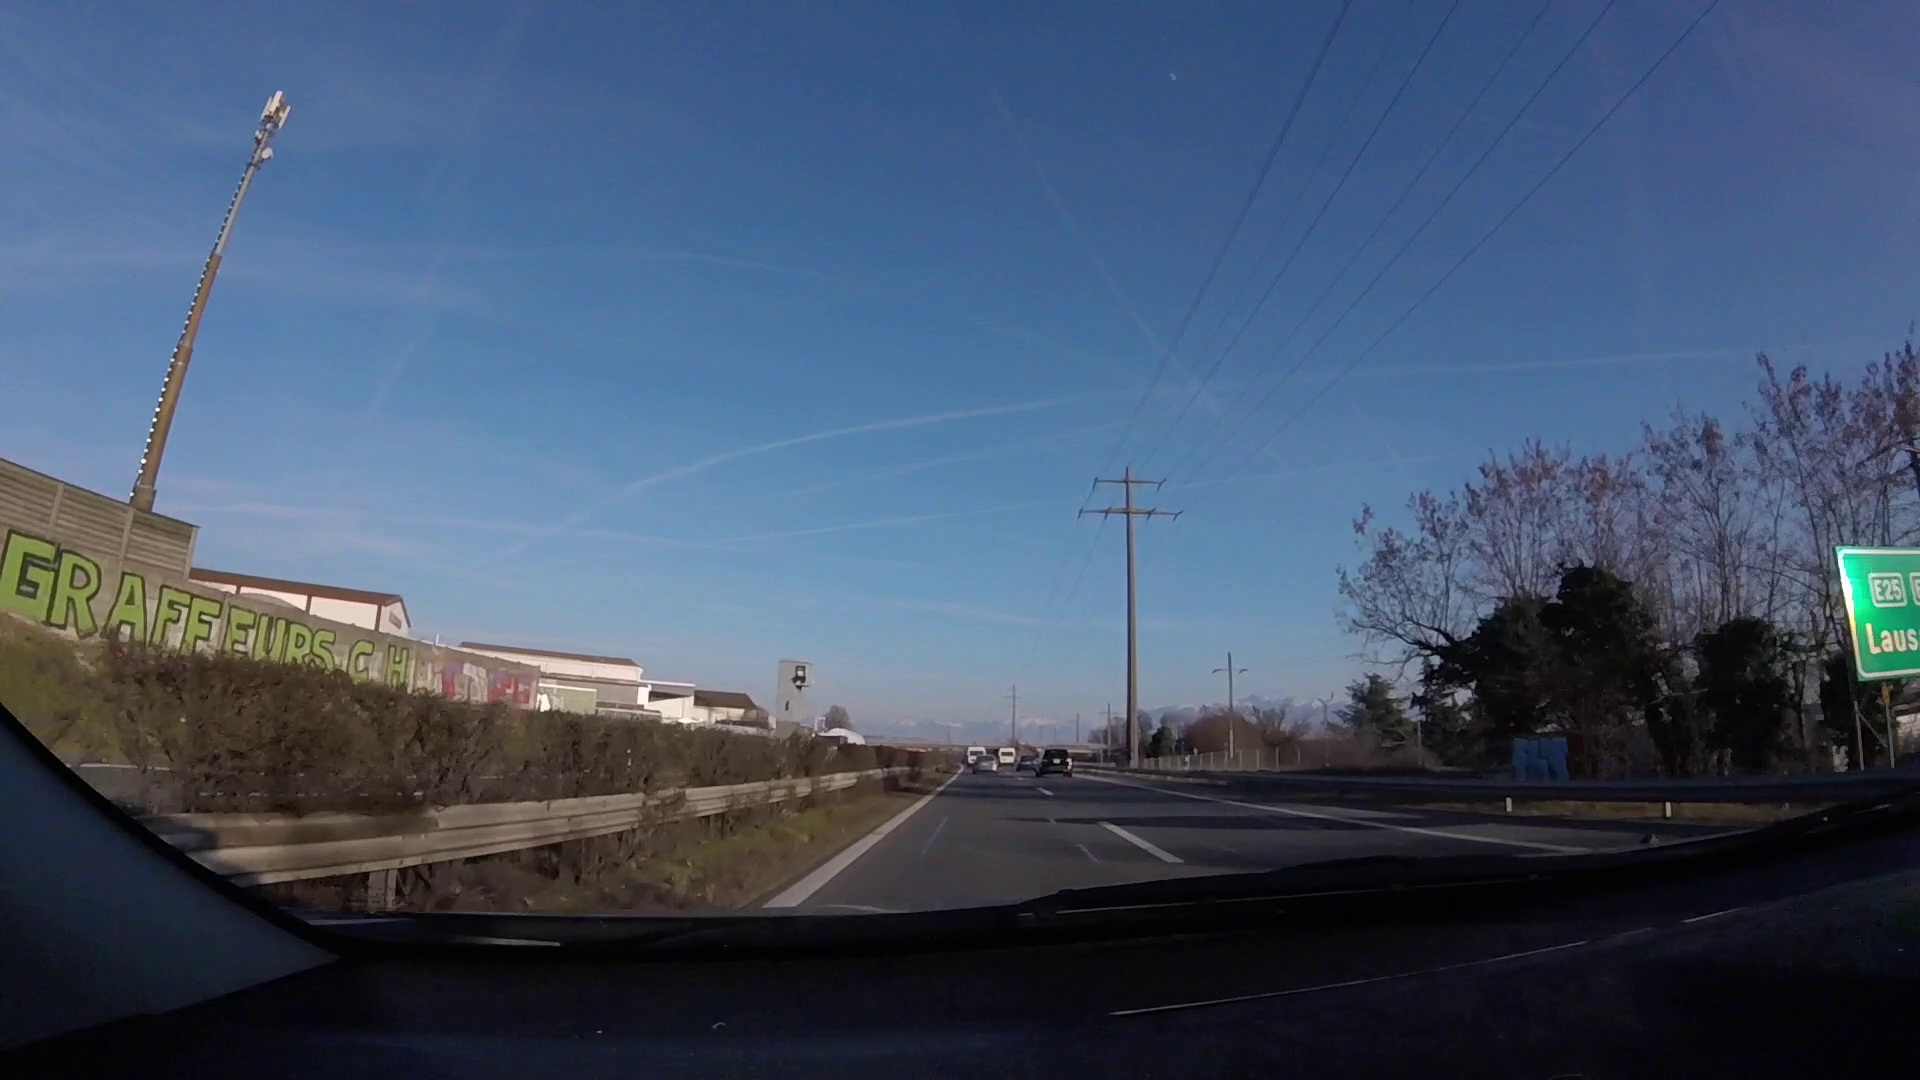radar: (774, 658, 818, 746)
